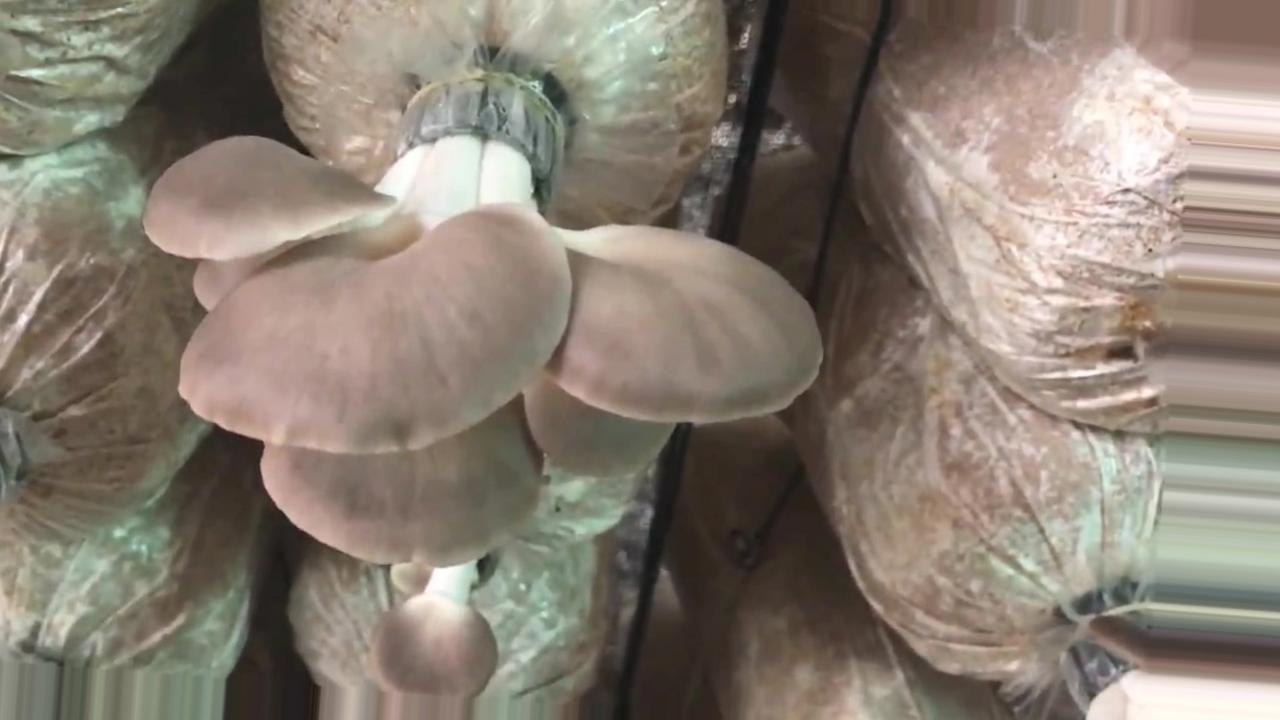nam: (140, 73, 820, 565), (1075, 600, 1280, 720), (376, 542, 496, 720)
